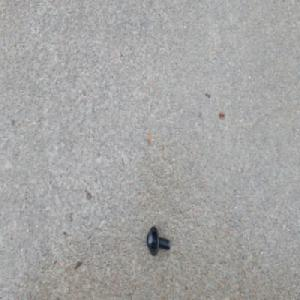BoltWasher: (145, 225, 170, 257)
